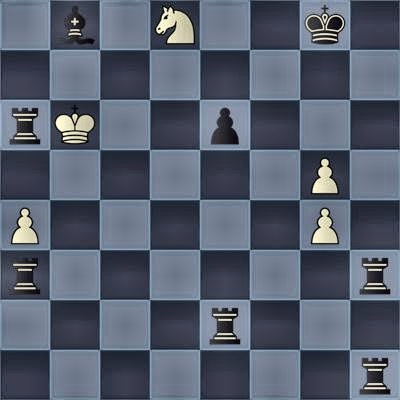black-bishop: (50, 0, 100, 50)
black-king: (300, 0, 350, 50)
black-pawn: (200, 100, 250, 150)
black-rook: (0, 100, 50, 150), (0, 250, 50, 300), (350, 250, 400, 300), (200, 300, 250, 350), (350, 350, 400, 400)
white-king: (50, 100, 100, 150)
white-knight: (150, 0, 200, 50)
white-pawn: (300, 150, 350, 200), (0, 200, 50, 250), (300, 200, 350, 250)
